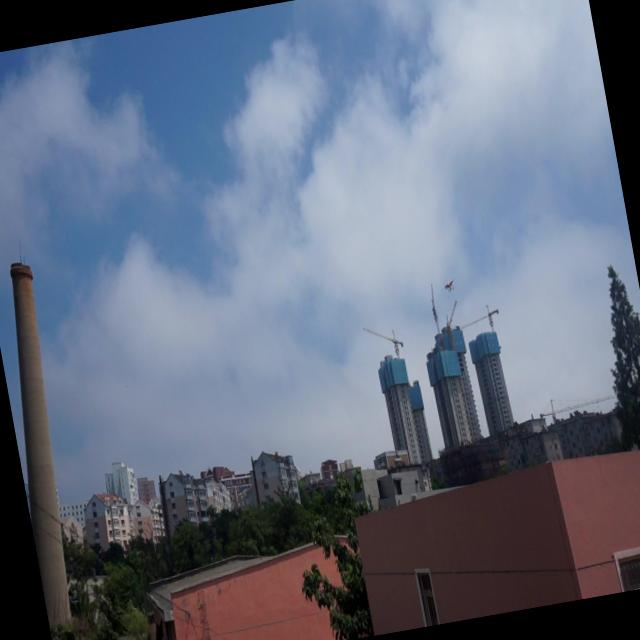drone: (442, 274, 457, 296)
